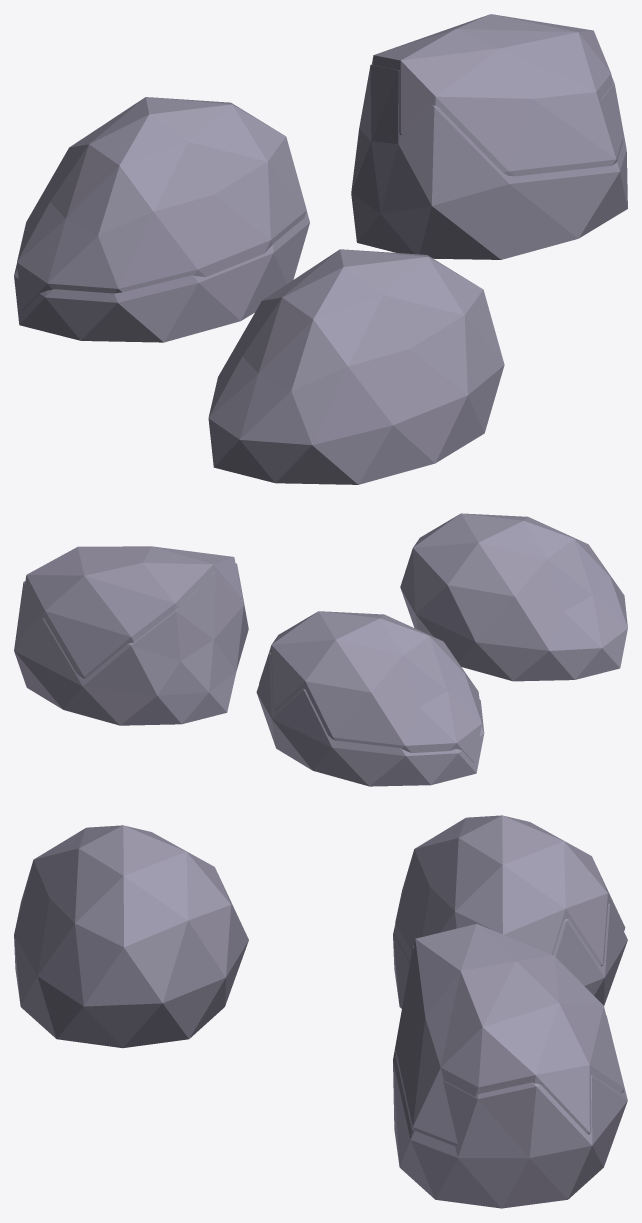
File: Rock_1_Par.fbx
The picture shows the model from 3 angles, top to bottom: view 1: azimuth 30°, elevation 25°; view 2: azimuth 150°, elevation 25°; view 3: azimuth 270°, elevation 25°; orthographic projection. The views are drawn at different scales.
Visible parts, largest first — view 1: Icosphere.001; view 2: Icosphere.001; view 3: Icosphere.001.
Boxes of the visible parts, x1,y1,x2,y2 form: Icosphere.001: [14, 14, 627, 484]; Icosphere.001: [14, 513, 627, 786]; Icosphere.001: [14, 815, 627, 1208].
Size of the model in its own units: 534 by 157 by 486.
